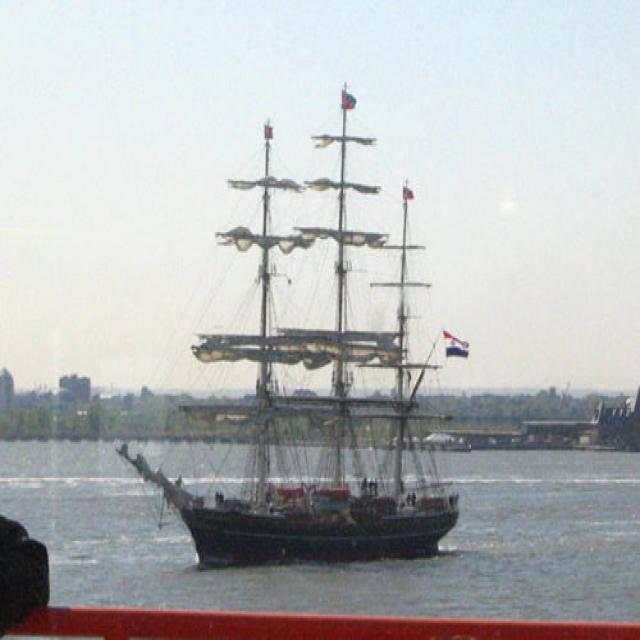Ship: (109, 104, 469, 573)
